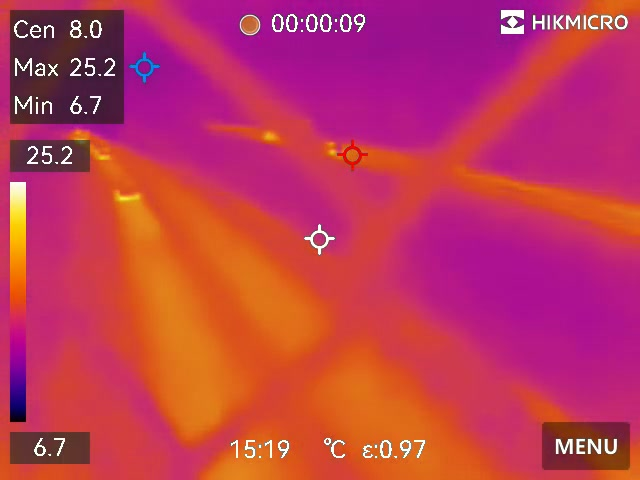vehicle: (110, 188, 147, 212)
